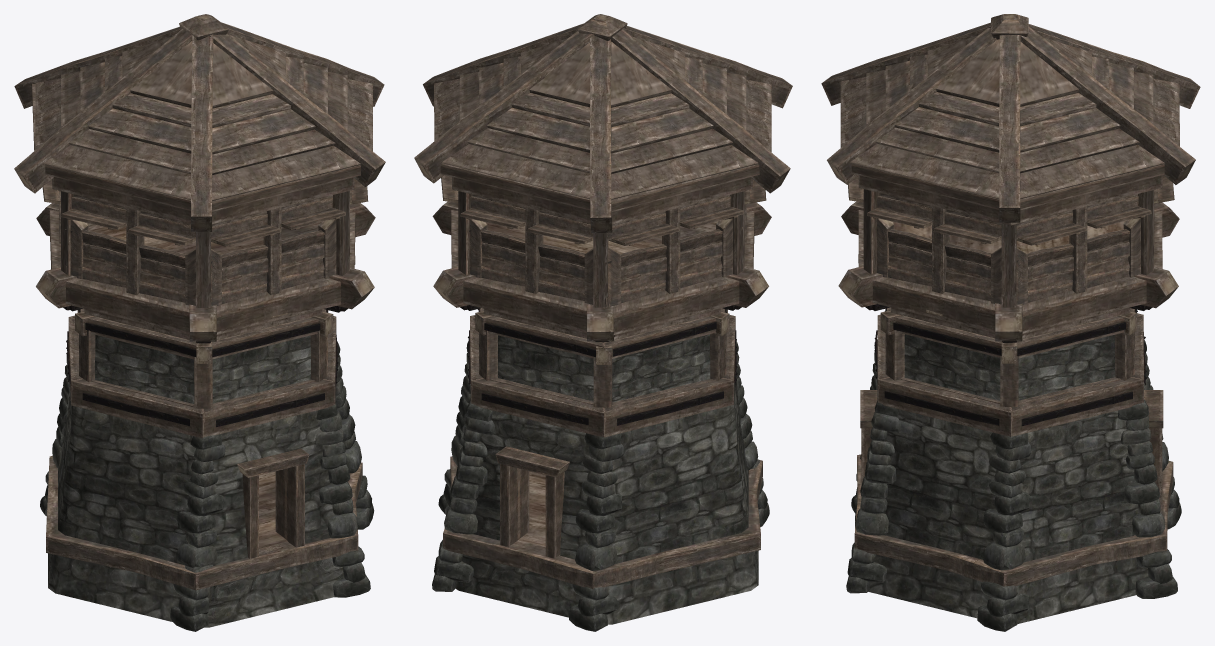
File: JAV_Struc_Def_TrueStone_TowerCProxy-transformed.glb
3 renders of one model, left to right at view 1: azimuth 30°, elevation 25°; view 2: azimuth 150°, elevation 25°; view 3: azimuth 270°, elevation 25°, orthographic.
Parts seen in each view (by area): view 1: default; view 2: default; view 3: default.
Boxes of the visible parts, x1,y1,x2,y2 form: default: (14, 14, 385, 631); default: (414, 14, 792, 631); default: (821, 14, 1200, 631).
Size of the model in its own units: 9.97 by 14.25 by 9.11.
3 materials, 3 textured.
